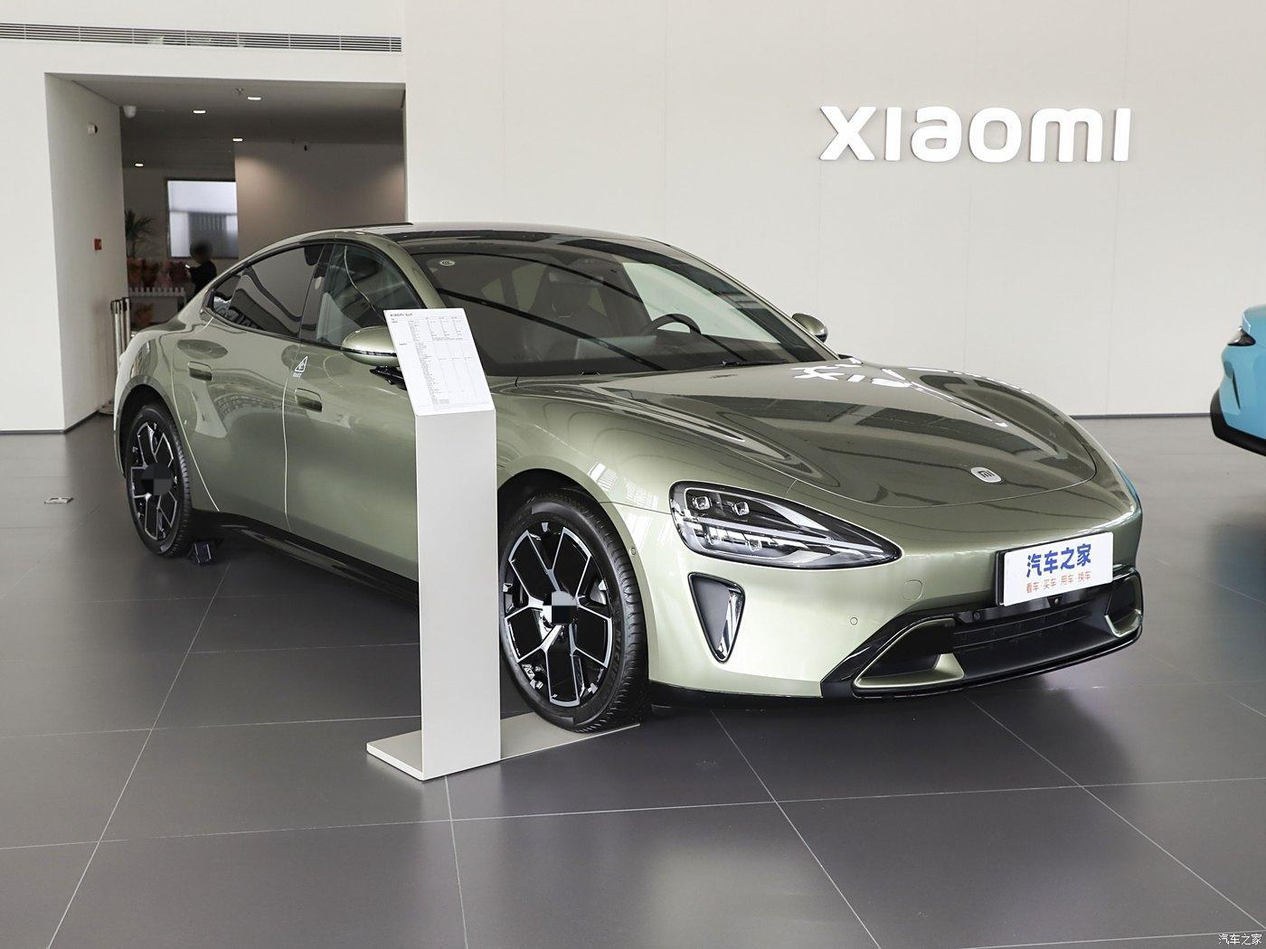XIAOMI: (969, 465, 1003, 483)
